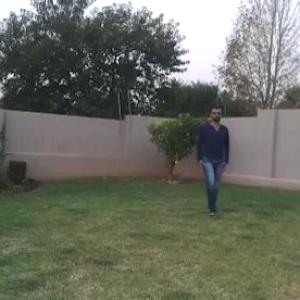follow: (195, 103, 230, 215)
